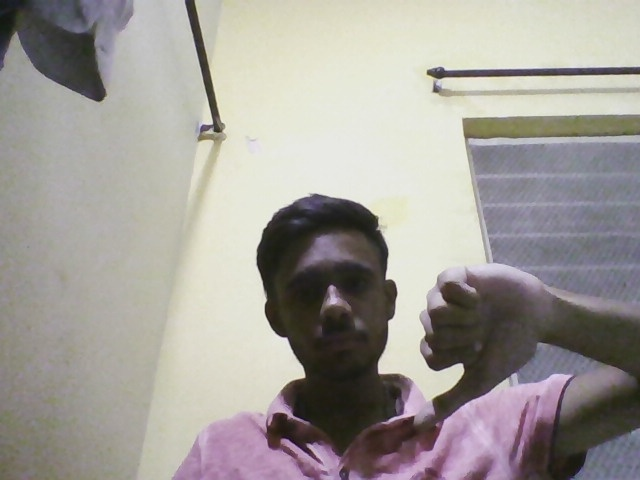no: (379, 258, 560, 430)
